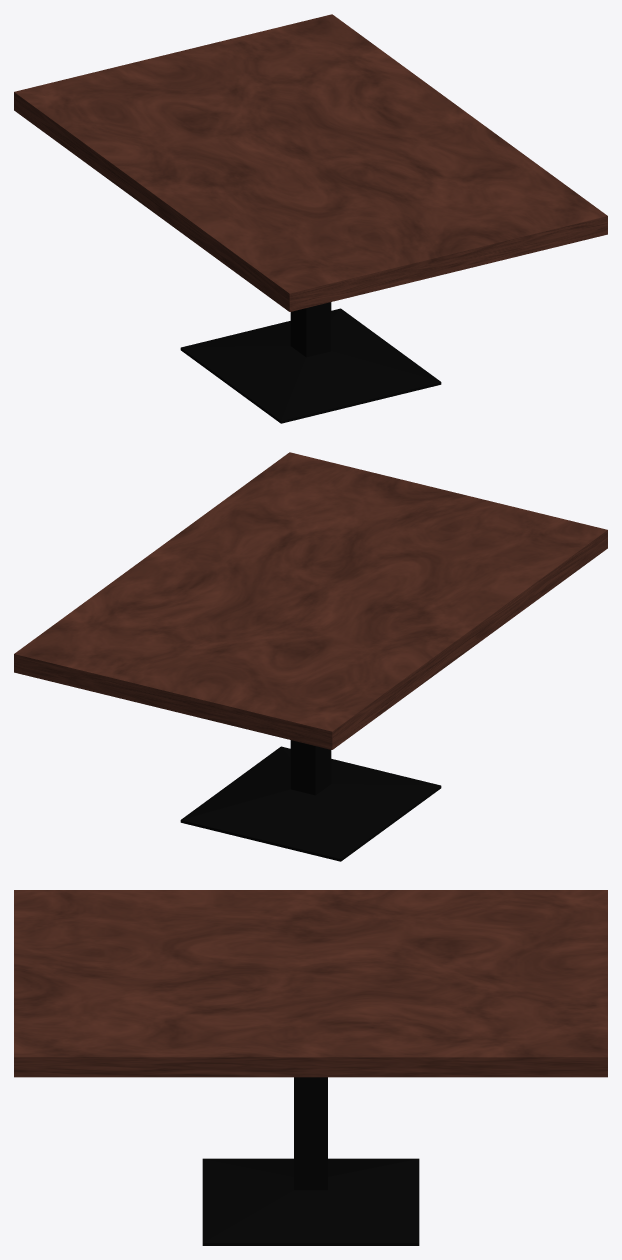
File: table.fbx
3 renders of one model, top to bottom at view 1: azimuth 30°, elevation 25°; view 2: azimuth 150°, elevation 25°; view 3: azimuth 270°, elevation 25°, orthographic. The views are drawn at different scales.
Parts seen in each view (by area): view 1: Table, Stand; view 2: Table, Stand; view 3: Table, Stand.
Boxes of the visible parts, x1,y1,x2,y2 form: Table: (14, 14, 607, 311); Stand: (180, 302, 441, 423); Table: (14, 452, 607, 749); Stand: (180, 740, 441, 861); Table: (14, 890, 607, 1077); Stand: (202, 1077, 419, 1245).
Size of the model in its own units: 300 by 200 by 128.
